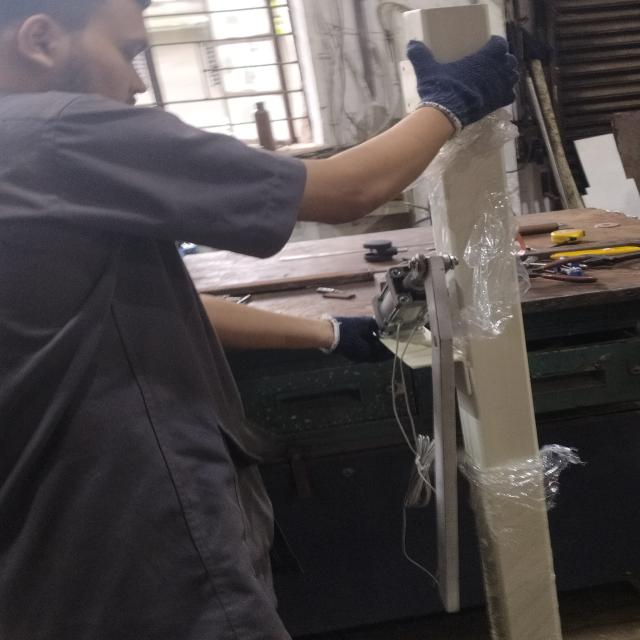Gloves-Detection: (401, 38, 534, 126)
